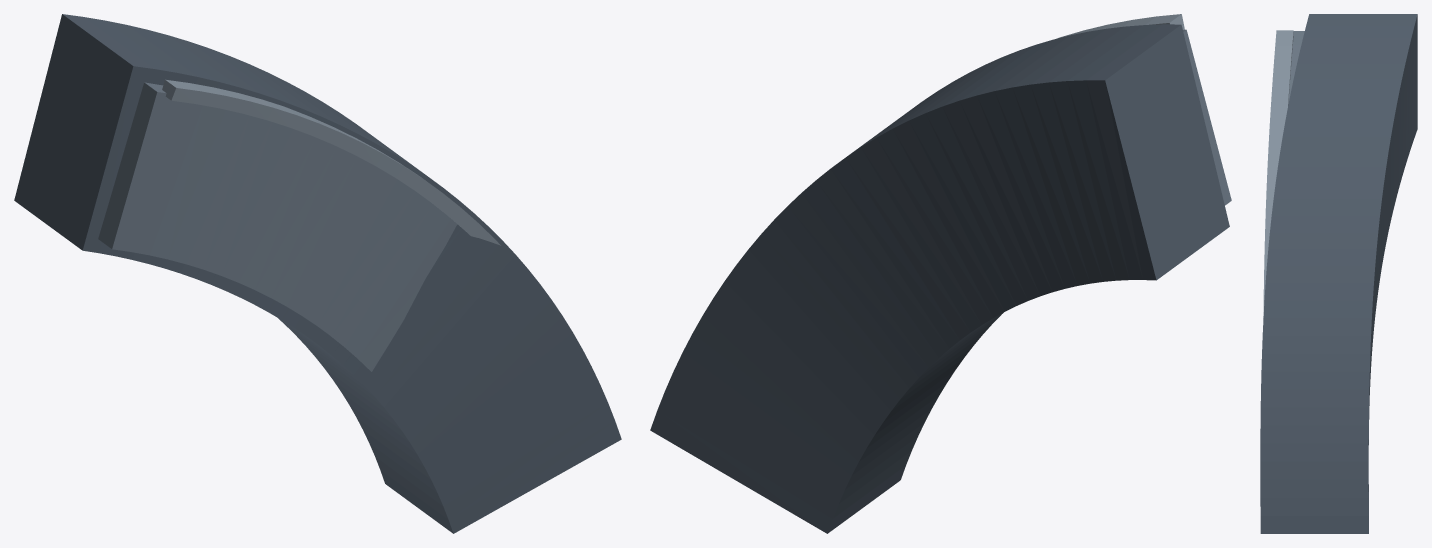
The model's file is ev_core_r10dp_outer_ne.glb.
The picture shows the model from 3 angles, left to right: view 1: azimuth 30°, elevation 25°; view 2: azimuth 150°, elevation 25°; view 3: azimuth 270°, elevation 25°; orthographic projection. The views are drawn at different scales.
Visible parts, largest first — view 1: outer_ne_body, outer_ne_inset, outer_ne_edge; view 2: outer_ne_body, outer_ne_inset, outer_ne_edge; view 3: outer_ne_body, outer_ne_edge, outer_ne_inset.
Part boxes in pixels (x1,y1,x2,y2): outer_ne_body: (14,14,621,533); outer_ne_inset: (98,82,457,371); outer_ne_edge: (162,79,500,245); outer_ne_body: (650,24,1229,533); outer_ne_inset: (1183,29,1231,205); outer_ne_edge: (1057,14,1184,38); outer_ne_body: (1260,14,1417,533); outer_ne_edge: (1263,30,1293,317); outer_ne_inset: (1288,31,1304,102).
Bounding box in the file's own units: 128 × 125 × 45.33.
